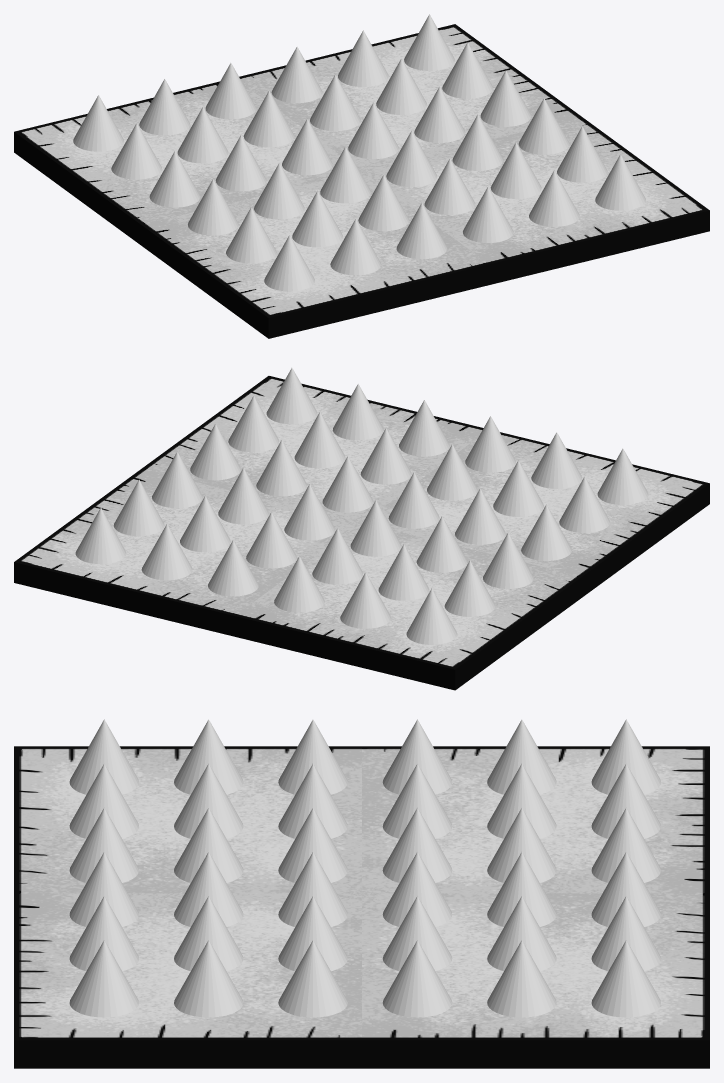
The model's file is Floor pinchos.fbx.
The picture shows the model from 3 angles, top to bottom: view 1: azimuth 30°, elevation 25°; view 2: azimuth 150°, elevation 25°; view 3: azimuth 270°, elevation 25°; orthographic projection. The views are drawn at different scales.
Visible parts, largest first — view 1: pinchos; view 2: pinchos; view 3: pinchos.
Part boxes in pixels (x1=…): pinchos: x1=14, y1=14, x2=709, y2=338; pinchos: x1=14, y1=368, x2=709, y2=690; pinchos: x1=14, y1=719, x2=709, y2=1068.
Size of the model in its own units: 200 by 29 by 200.
Materials: 3 (2 with a texture image).
